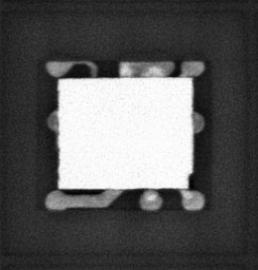DIE_BROKEN: (187, 172, 195, 191)
